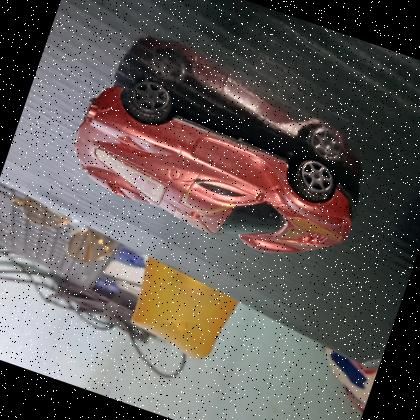Car: (51, 58, 378, 283)
